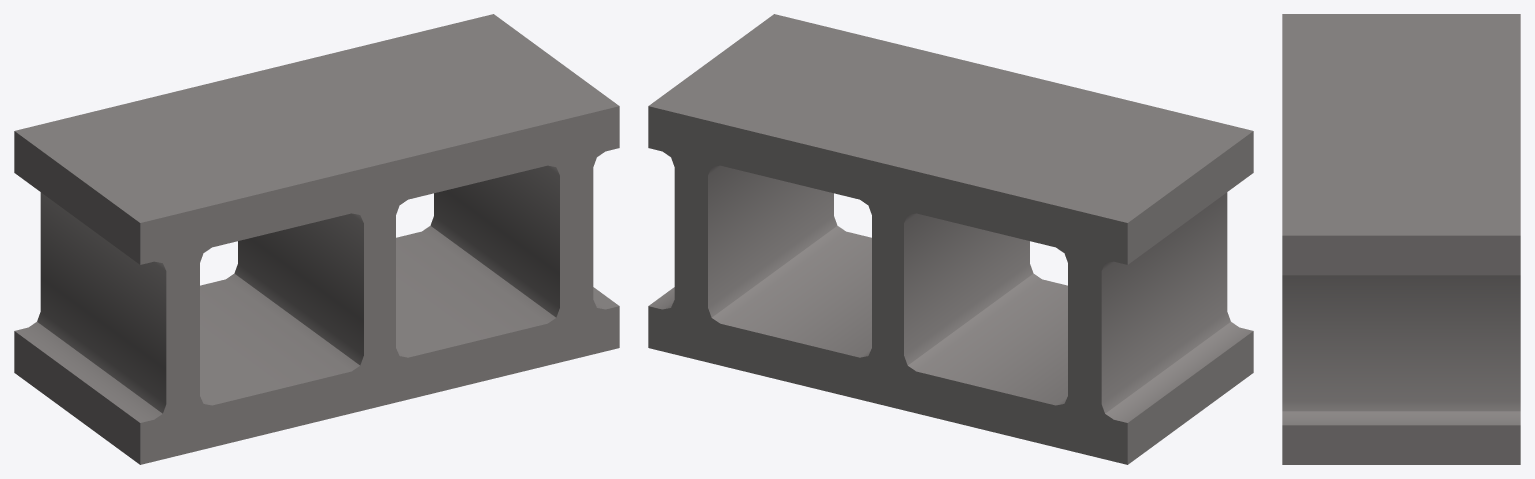
File: quaternius-zombie-apocalypse-kit-march-cinder-block.glb
3 renders of one model, left to right at view 1: azimuth 30°, elevation 25°; view 2: azimuth 150°, elevation 25°; view 3: azimuth 270°, elevation 25°, orthographic. The views are drawn at different scales.
Parts seen in each view (by area): view 1: CinderBlock; view 2: CinderBlock; view 3: CinderBlock.
Boxes of the visible parts, box(x1,y1,x2,y2) form: CinderBlock: box(14, 14, 619, 464); CinderBlock: box(648, 14, 1253, 464); CinderBlock: box(1282, 14, 1520, 464).
Size of the model in its own units: 0.4716 by 0.2274 by 0.2145.
Materials: 1 (1 with a texture image).
